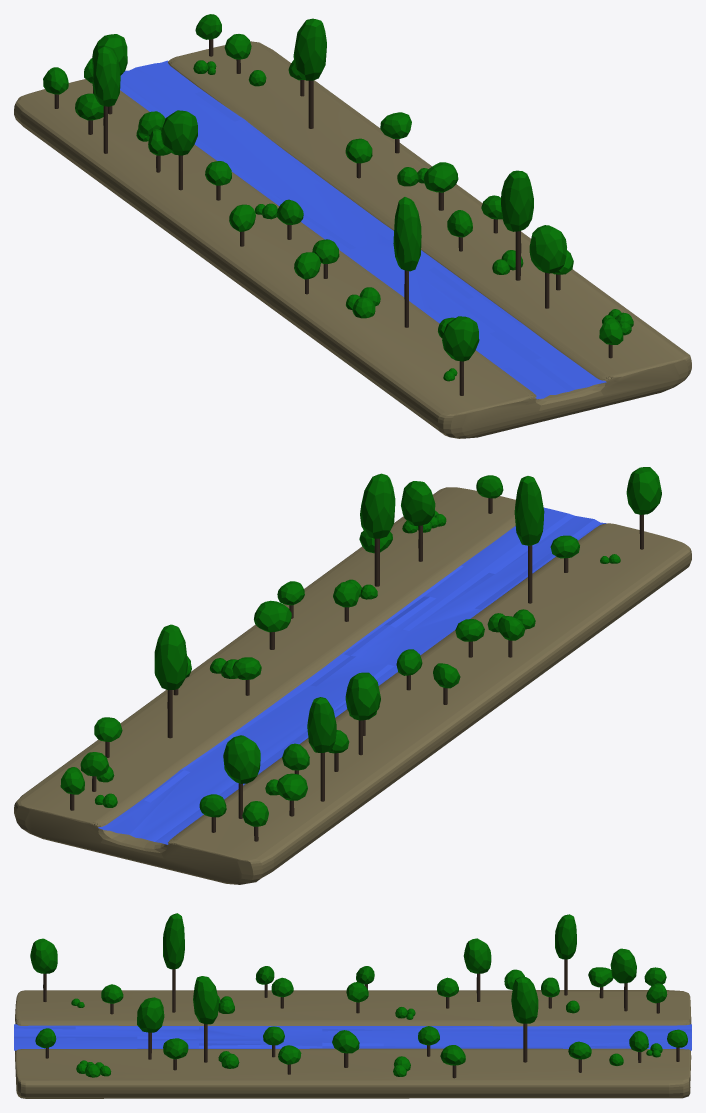
The model's file is lazy_river.glb.
The picture shows the model from 3 angles, top to bottom: view 1: azimuth 30°, elevation 25°; view 2: azimuth 150°, elevation 25°; view 3: azimuth 270°, elevation 25°; orthographic projection. The views are drawn at different scales.
Parts seen in each view (by area): view 1: smalltrees; view 2: smalltrees; view 3: smalltrees.
Part boxes in pixels (left/top/right/bottom): smalltrees: left=14, top=14, right=691, bottom=438; smalltrees: left=14, top=467, right=691, bottom=884; smalltrees: left=14, top=913, right=691, bottom=1098.
Size of the model in its own units: 9.99 by 6.01 by 30.06.
